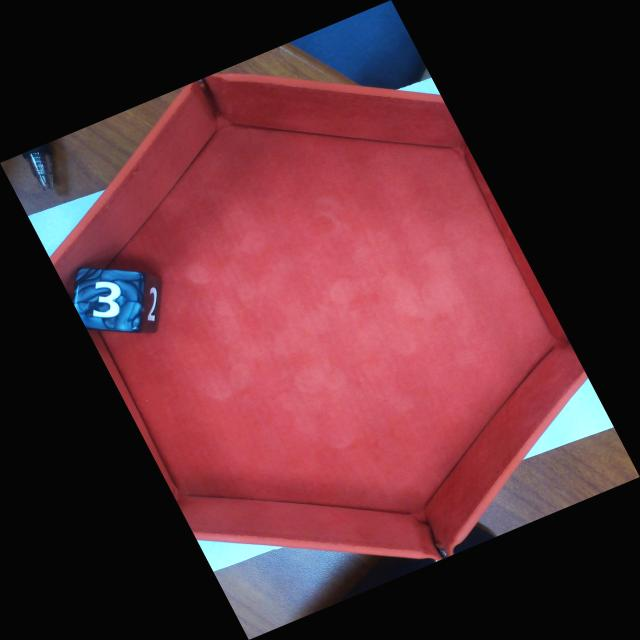dice: (75, 269, 142, 330)
